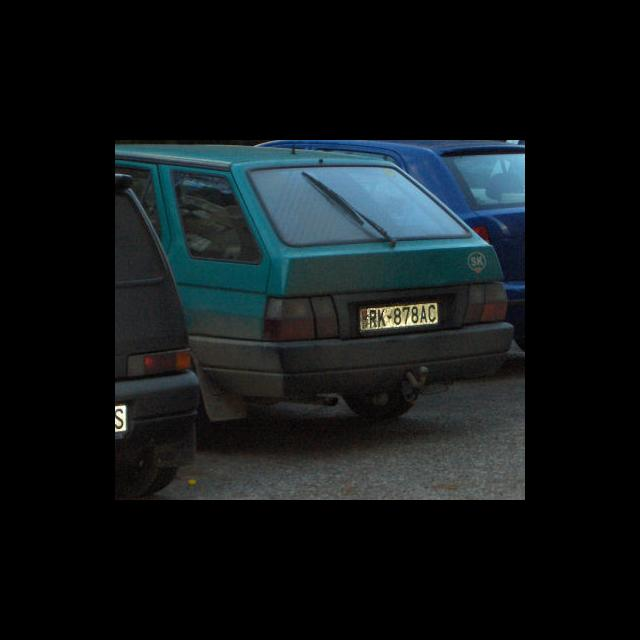Plate: (360, 304, 439, 330)
